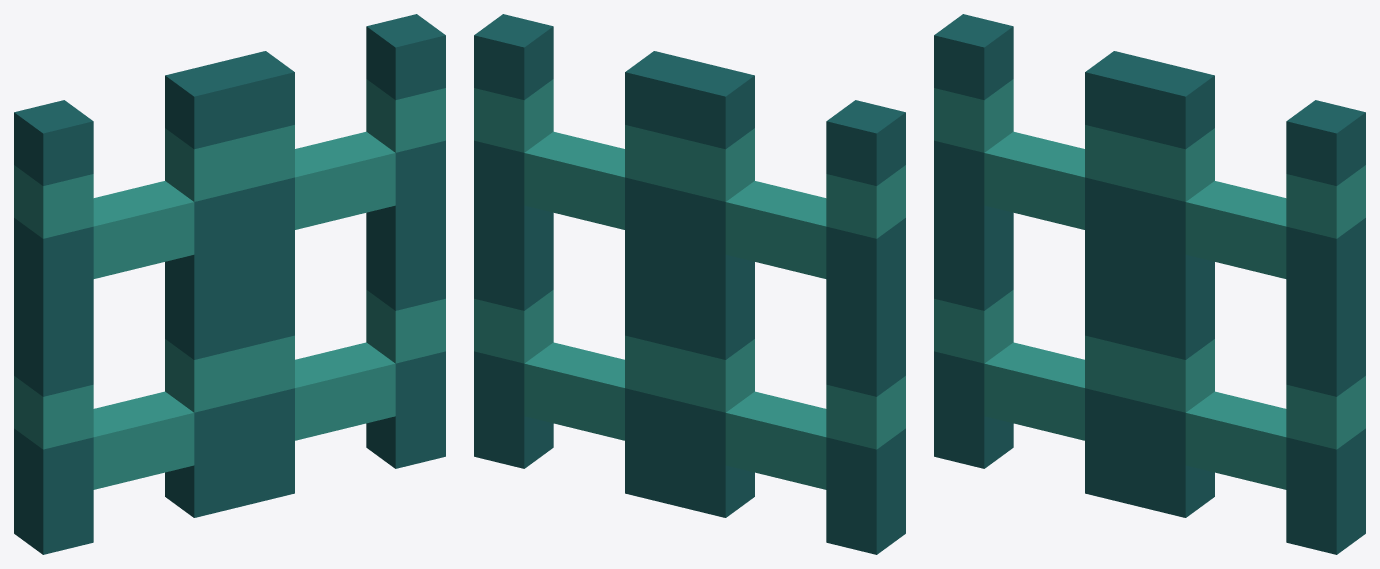
Rendered from Spectral Ladder.glb.
3 renders of one model, left to right at view 1: azimuth 30°, elevation 25°; view 2: azimuth 150°, elevation 25°; view 3: azimuth 330°, elevation 25°, orthographic.
Visible parts, largest first — view 1: generated(Clone); view 2: generated(Clone); view 3: generated(Clone).
Boxes of the visible parts, x1,y1,x2,y2 form: generated(Clone): [14, 14, 445, 554]; generated(Clone): [474, 14, 905, 554]; generated(Clone): [934, 14, 1365, 554].
Bounding box in the file's own units: 8 × 8 × 1.
1 material, 1 textured.
